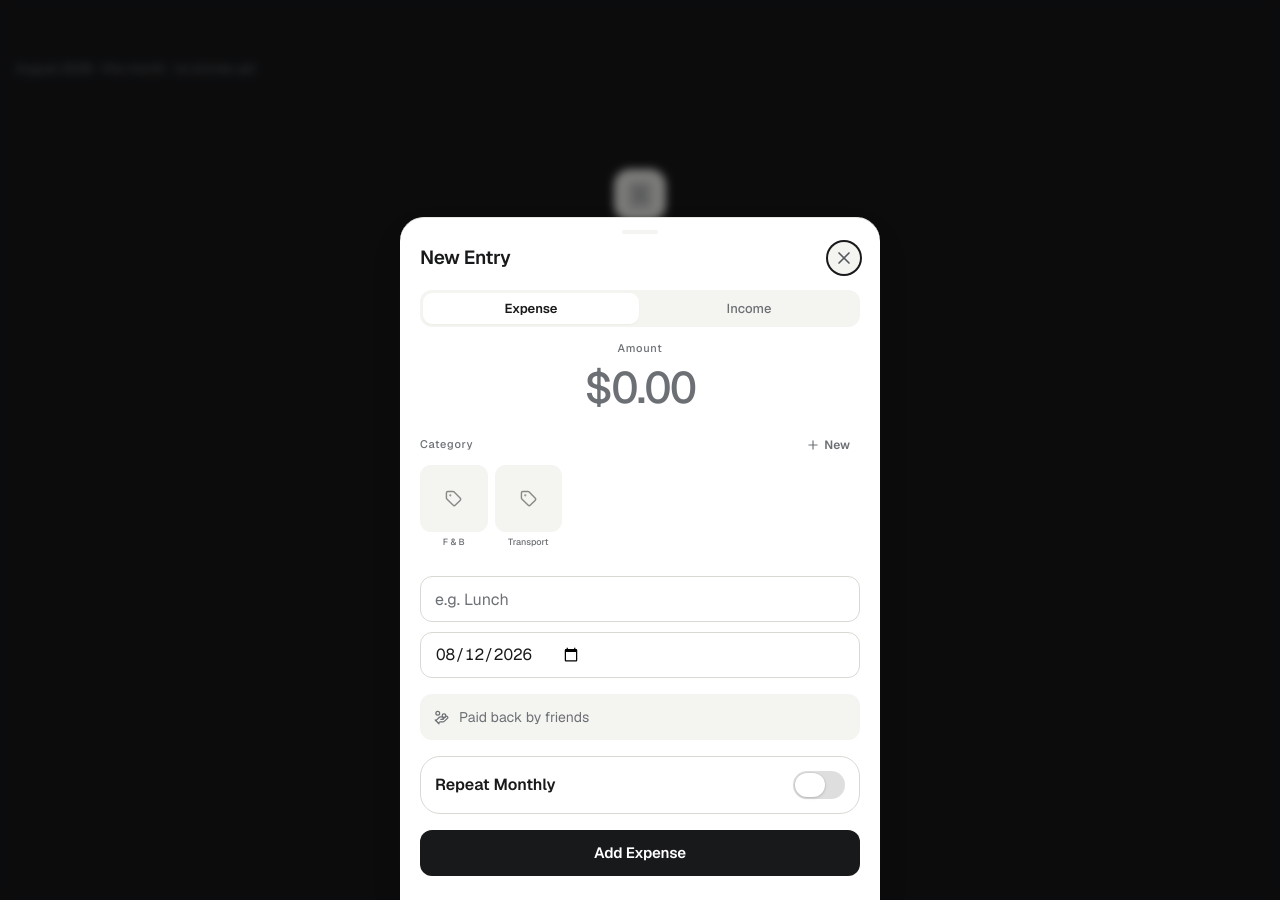
Test case: optional description › still refuses a submit with no category
Click the button "Add Expense". click: [640, 853]
box: [420,830,860,876]
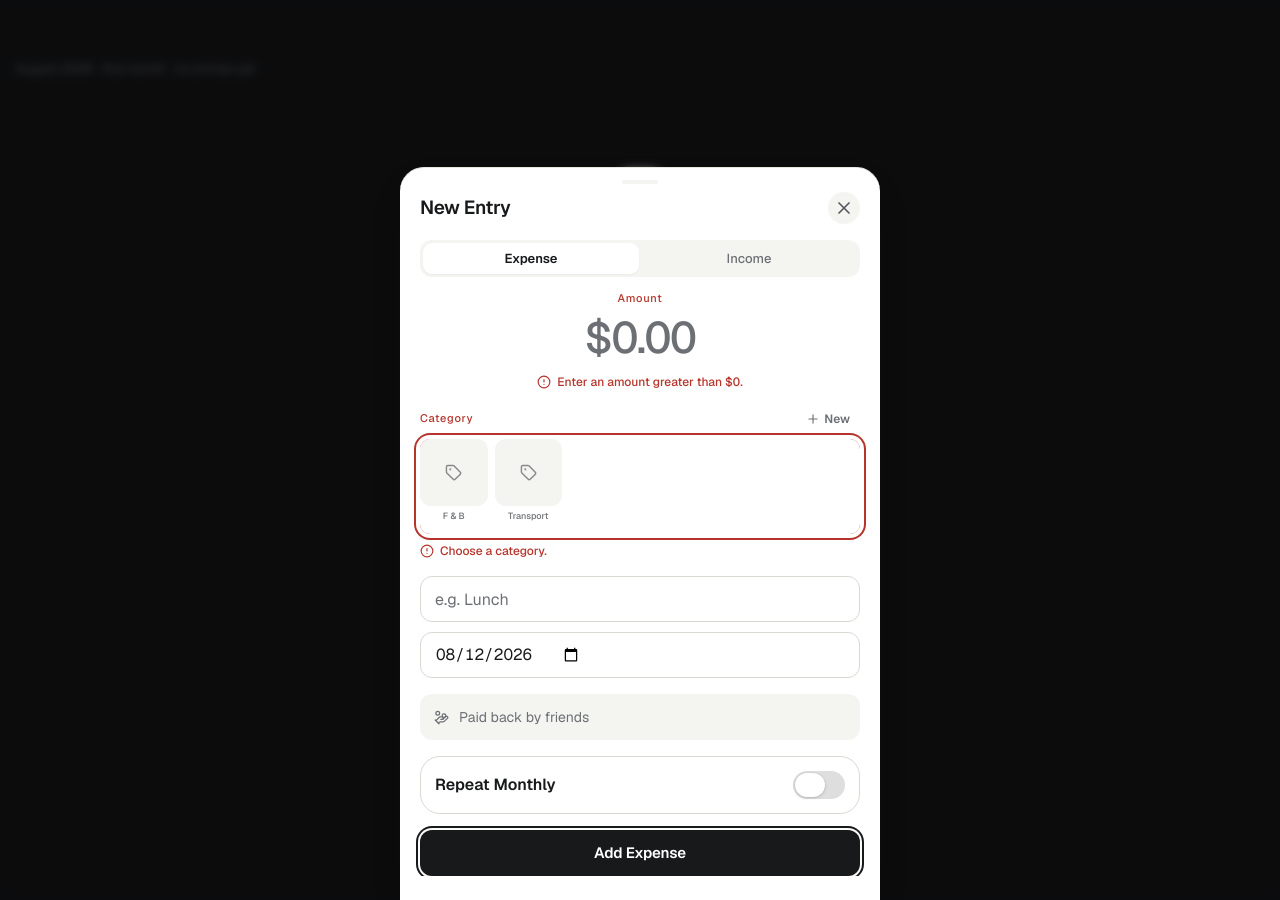
Now the text "Choose a category." is shown, box [420,543,547,559]
